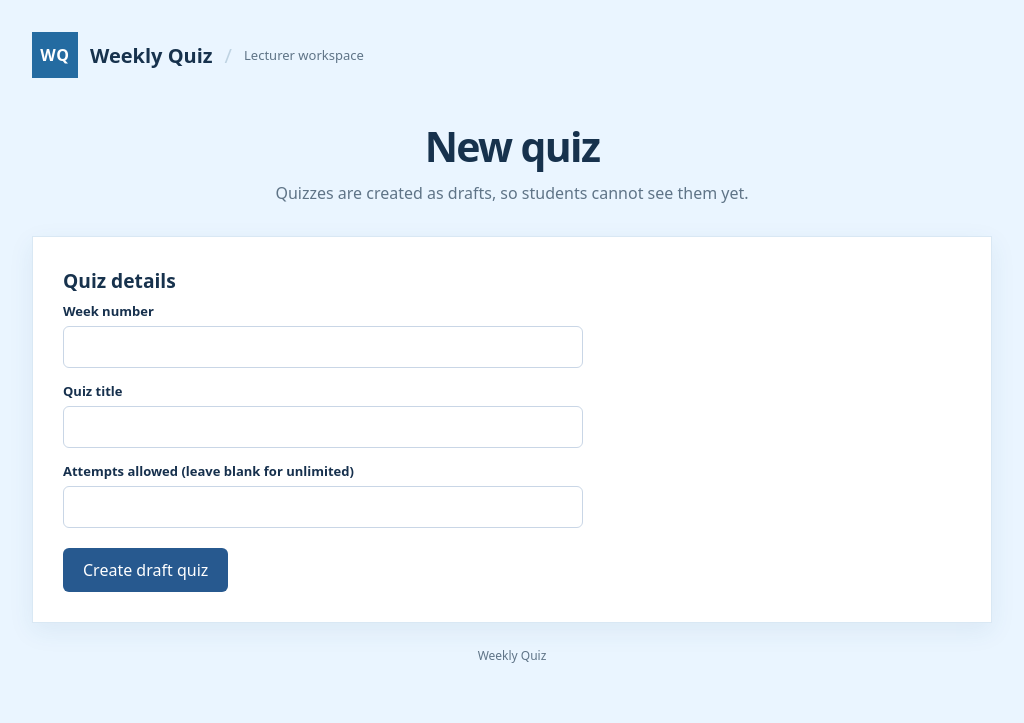
refuses to add a question with fewer than two answers
In the number field labelled "Week number": (323, 347) [63,326,583,368], type "3"
In the field labelled "Quiz title": (323, 427) [63,406,583,448], type "Week 3 — Test Design"
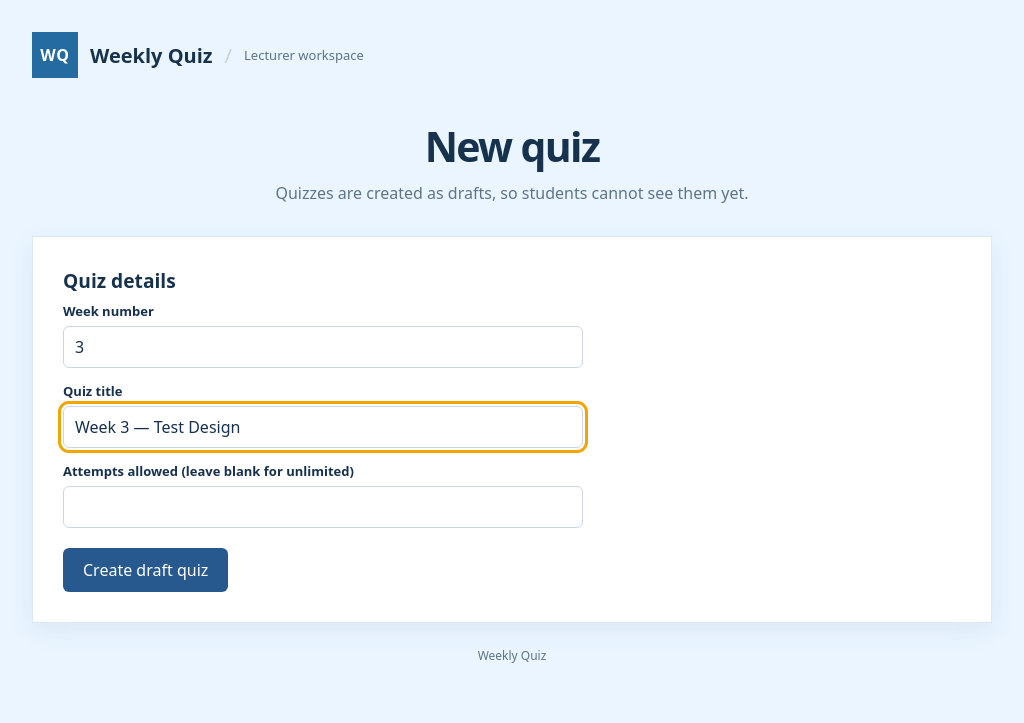
Click the button "Create draft quiz": click(146, 570) [63,548,228,592]
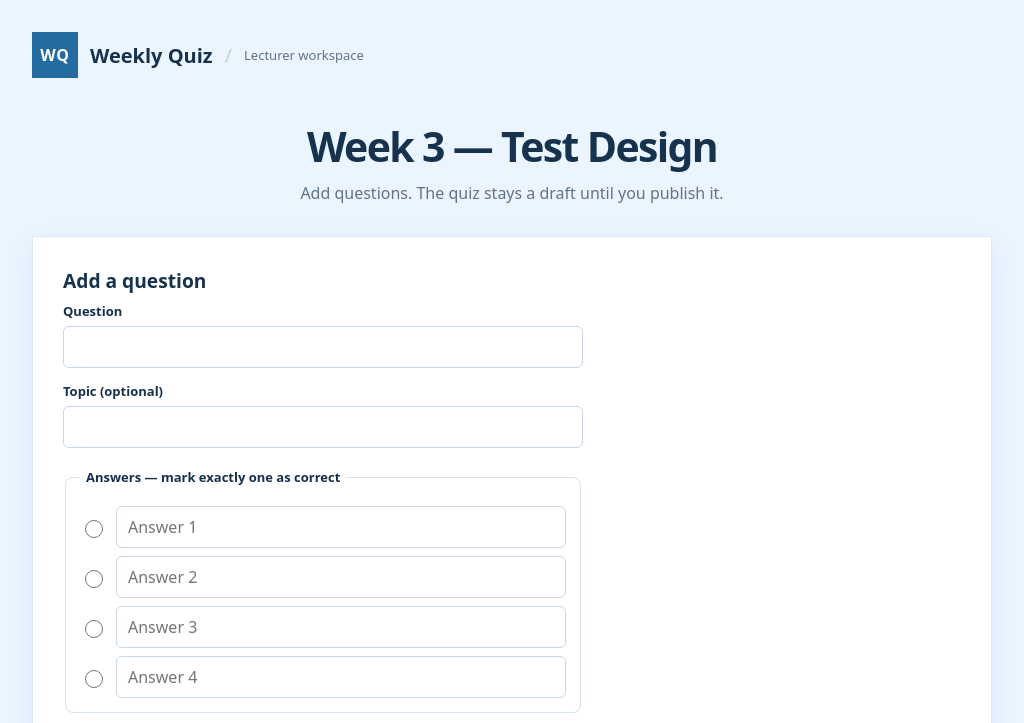
In the field labelled "Question": (323, 347) [63,326,583,368], type "Only one answer here"
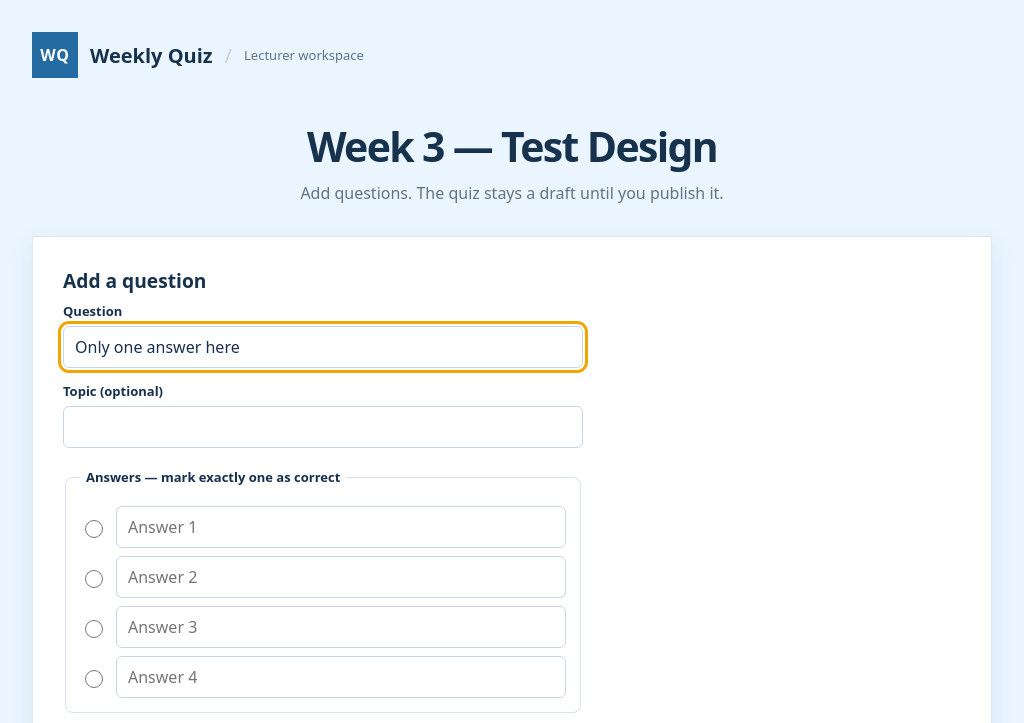
In the field labelled "Answer 1": (341, 527) [116,506,566,548], type "The only one"
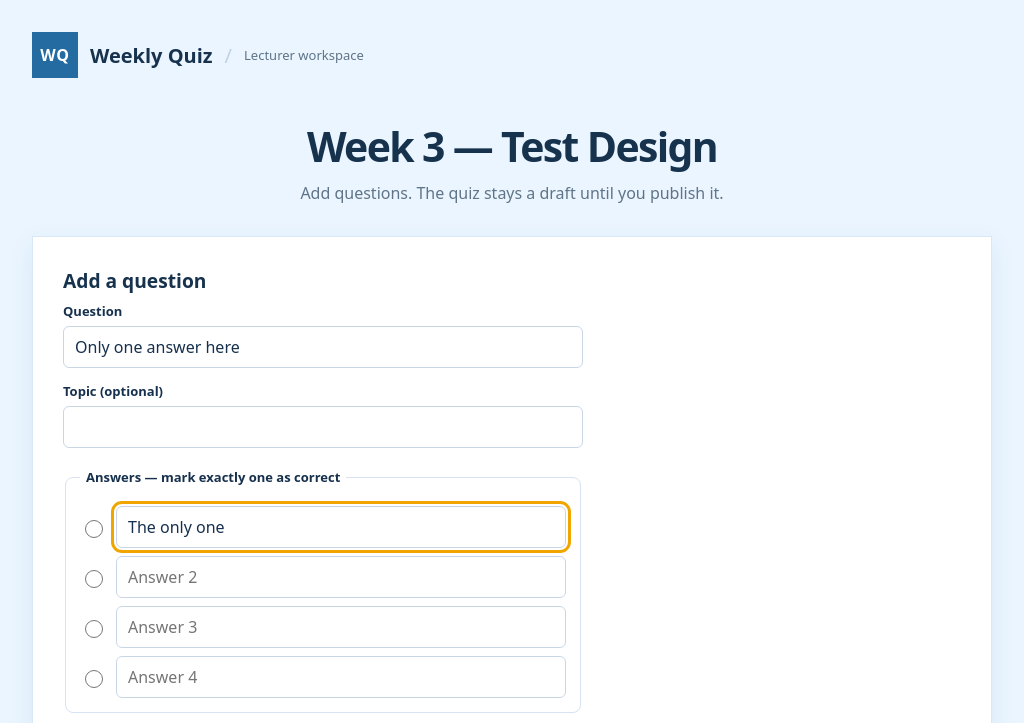
Click the radio button named "Answer 1 is correct": click(94, 528) [85,520,103,538]
(page scrolled)
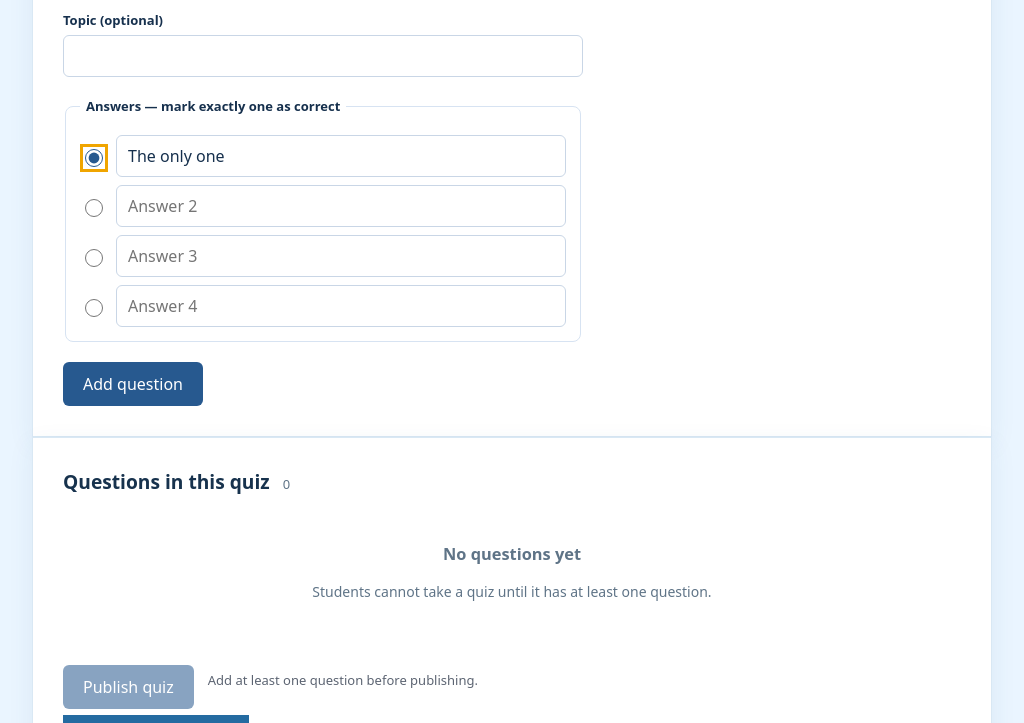
Click the button "Add question": click(133, 384) [63,362,203,406]
(page scrolled)
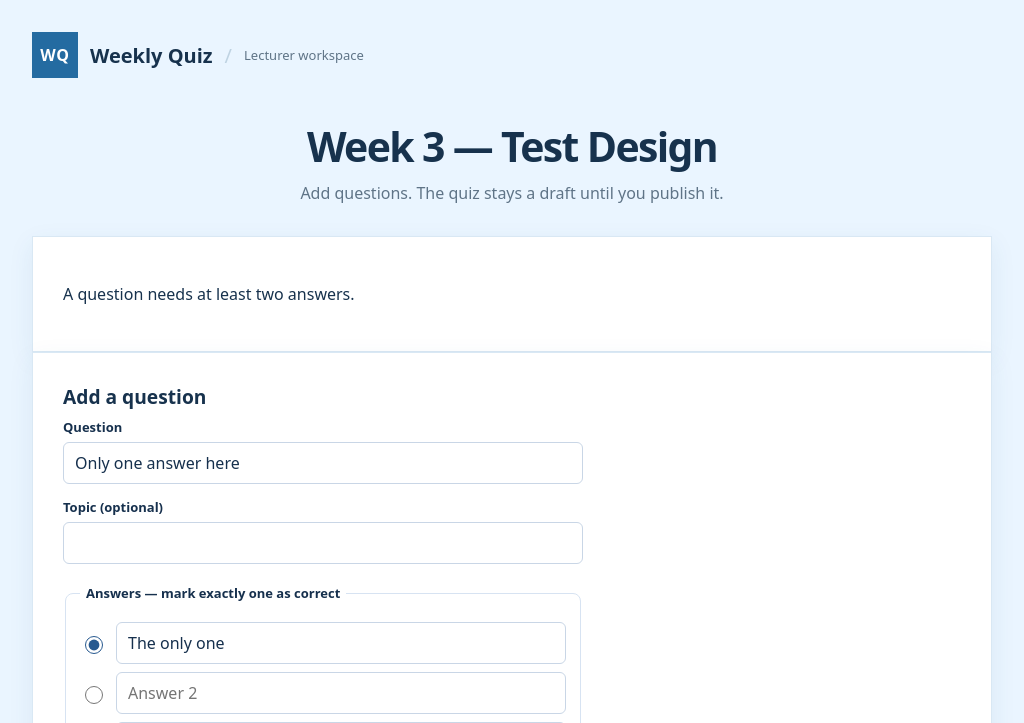
Check: the message shows "two answers", box [63,283,355,305]
